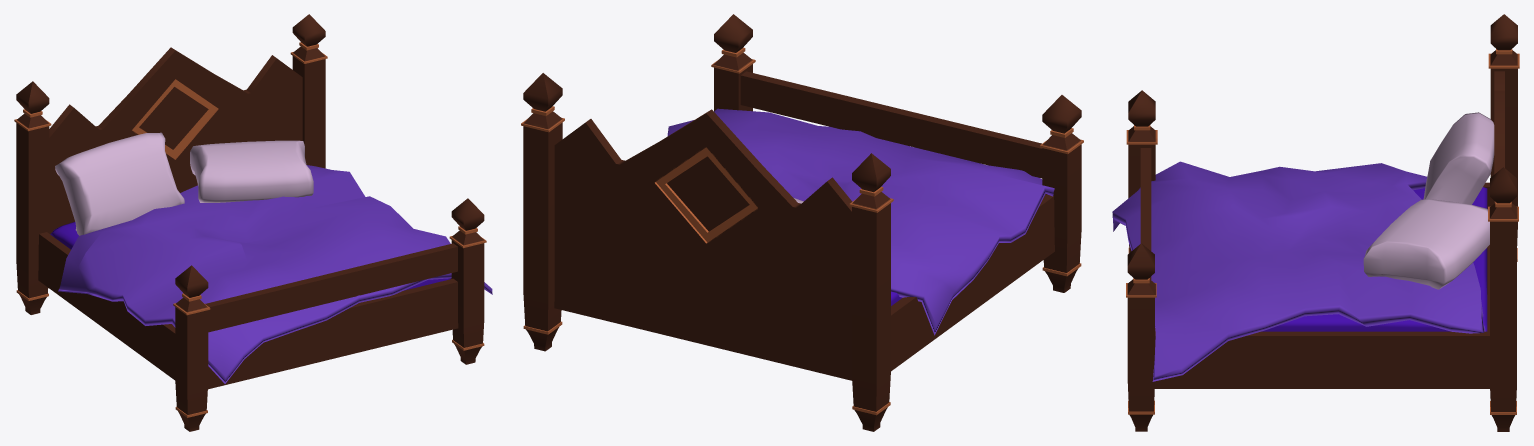
The model's file is WizardHubBed.fbx.
3 renders of one model, left to right at view 1: azimuth 30°, elevation 25°; view 2: azimuth 150°, elevation 25°; view 3: azimuth 270°, elevation 25°, orthographic. The views are drawn at different scales.
Parts seen in each view (by area): view 1: WizardHubBed; view 2: WizardHubBed; view 3: WizardHubBed.
Part boxes in pixels (<box>): WizardHubBed: <box>14,14,492,431</box>; WizardHubBed: <box>521,14,1083,431</box>; WizardHubBed: <box>1112,14,1519,431</box>.
Size of the model in its own units: 4.6 by 3.18 by 4.47.
Materials: 1 (1 with a texture image).
